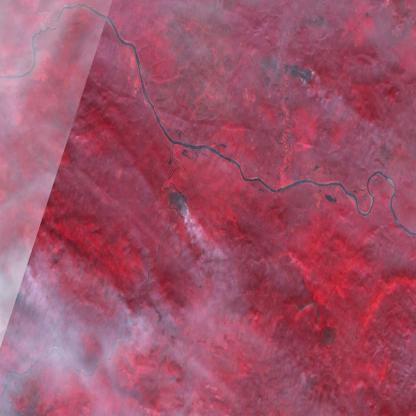fire: (165, 184, 191, 224)
